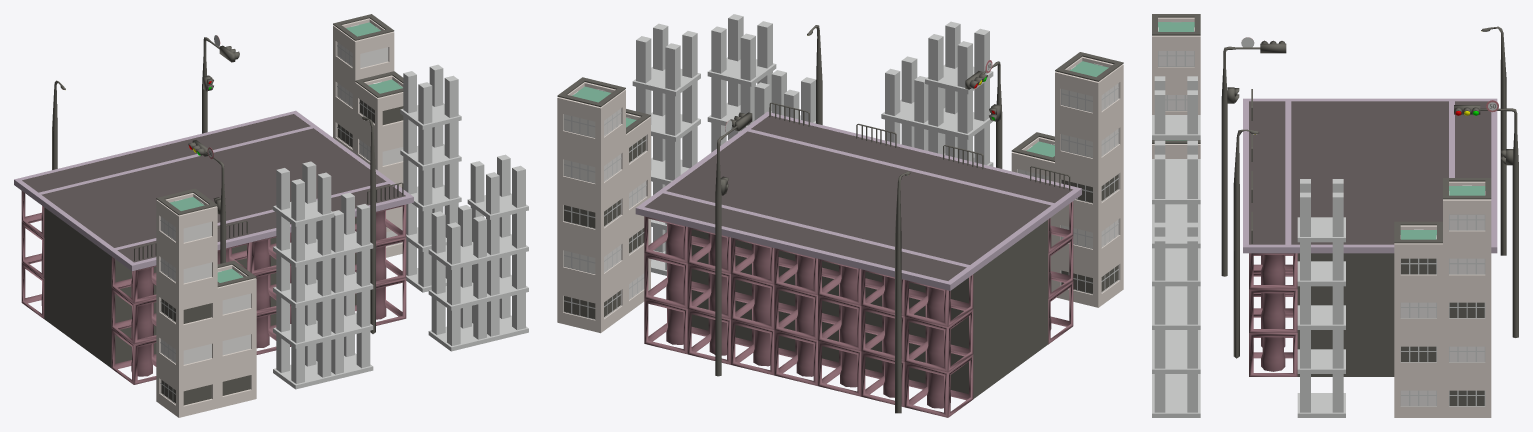
The model's file is StageGroundAssemble_D_GS_A_57.fbx.
3 views of the same model, side by side, from view 1: azimuth 30°, elevation 25°; view 2: azimuth 150°, elevation 25°; view 3: azimuth 270°, elevation 25° (orthographic). The views are drawn at different scales.
Visible parts, largest first — view 1: Quad, stage_d_gs_background_57, stage_d_background_deco_gs_005, stage_d_background_deco_gs_004, stage_d_background_deco_gs_004__1_, stage_d_gs_foreground_57, stage_d_background_deco_gs_003, stage_d_background_deco_gs_002, stage_d_background_deco_gs_003__1_, stage_d_background_deco_gs_001, stage_d_background_deco_gs, stage_d_background_deco_gs_005__1_; view 2: stage_d_gs_background_57, Quad, stage_d_background_deco_gs_005__1_, stage_d_background_deco_gs_005, stage_d_gs_foreground_57, stage_d_background_deco_gs_004__1_, stage_d_background_deco_gs_004, stage_d_background_deco_gs_003, stage_d_background_deco_gs, stage_d_background_deco_gs_003__1_, stage_d_background_deco_gs_002, stage_d_background_deco_gs_001; view 3: Quad, stage_d_gs_foreground_57, stage_d_gs_background_57, stage_d_background_deco_gs_005__1_, stage_d_background_deco_gs, stage_d_background_deco_gs_004__1_, stage_d_background_deco_gs_003, stage_d_background_deco_gs_005, stage_d_background_deco_gs_004, stage_d_background_deco_gs_003__1_, stage_d_background_deco_gs_002, stage_d_background_deco_gs_001.
Boxes of the visible parts, box(x1,y1,x2,y2) form: Quad: box(22, 114, 405, 262); stage_d_gs_background_57: box(21, 191, 406, 384); stage_d_background_deco_gs_005: box(156, 188, 217, 417); stage_d_background_deco_gs_004: box(273, 161, 334, 389); stage_d_background_deco_gs_004__1_: box(400, 64, 461, 292); stage_d_gs_foreground_57: box(14, 35, 413, 333); stage_d_background_deco_gs_003: box(467, 154, 528, 341); stage_d_background_deco_gs_002: box(428, 205, 489, 351); stage_d_background_deco_gs_003__1_: box(316, 192, 373, 379); stage_d_background_deco_gs_001: box(217, 260, 256, 408); stage_d_background_deco_gs: box(355, 71, 403, 257); stage_d_background_deco_gs_005__1_: box(333, 14, 394, 153); stage_d_gs_background_57: box(644, 201, 1073, 417); Quad: box(645, 116, 1072, 280); stage_d_background_deco_gs_005__1_: box(557, 77, 625, 333); stage_d_background_deco_gs_005: box(1055, 52, 1123, 307); stage_d_gs_foreground_57: box(635, 25, 1081, 413); stage_d_background_deco_gs_004__1_: box(632, 23, 700, 275); stage_d_background_deco_gs_004: box(925, 21, 993, 166); stage_d_background_deco_gs_003: box(707, 14, 776, 152); stage_d_background_deco_gs: box(626, 109, 650, 314); stage_d_background_deco_gs_003__1_: box(881, 56, 945, 154); stage_d_background_deco_gs_002: box(754, 70, 815, 123); stage_d_background_deco_gs_001: box(1011, 132, 1054, 292); Quad: box(1249, 101, 1491, 244); stage_d_gs_foreground_57: box(1221, 26, 1518, 358); stage_d_gs_background_57: box(1249, 253, 1394, 376); stage_d_background_deco_gs_005__1_: box(1443, 178, 1491, 417); stage_d_background_deco_gs: box(1394, 221, 1442, 417); stage_d_background_deco_gs_004__1_: box(1297, 179, 1345, 417); stage_d_background_deco_gs_003: box(1152, 222, 1200, 417); stage_d_background_deco_gs_005: box(1152, 14, 1200, 114); stage_d_background_deco_gs_004: box(1152, 76, 1200, 261); stage_d_background_deco_gs_003__1_: box(1152, 141, 1200, 248); stage_d_background_deco_gs_002: box(1152, 286, 1200, 392); stage_d_background_deco_gs_001: box(1152, 140, 1200, 158).
Size of the model in its own units: 3650 by 2160 by 3027.
2 materials, 1 textured.
